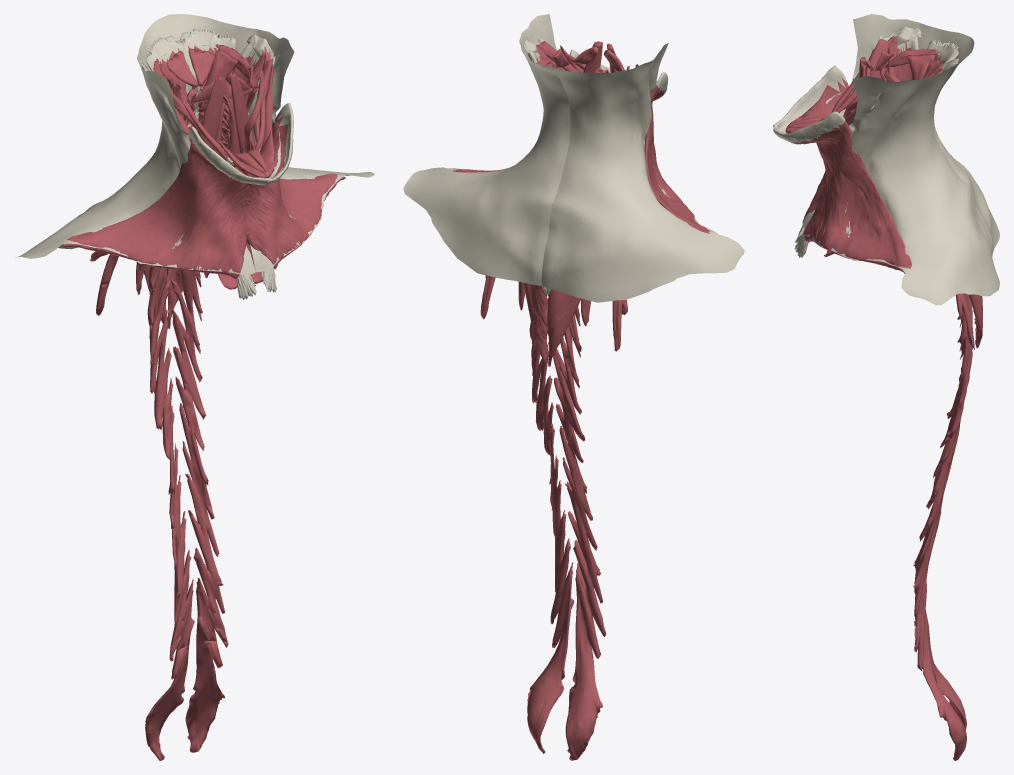
Rendered from detail-muscular-neck.glb.
The picture shows the model from 3 angles, left to right: view 1: azimuth 30°, elevation 25°; view 2: azimuth 150°, elevation 25°; view 3: azimuth 270°, elevation 25°; orthographic projection. The views are drawn at different scales.
Visible parts, largest first — view 1: za-981cc629c9126f4d, za-1216a7f2f619366f, za-6c12c4f108a2f519, za-fdeec9923b8b4599, za-8329b91f3f66835b, za-a977839783334c32, za-5dd3774f022d3797, za-29a0d6bc1f74e0b5, za-fdb102b94d64d117, za-ad194d5f032cf5a8, za-0d40ec91fd7301d3, za-03d11aa52a6f3696 (+2 smaller); view 2: za-fdeec9923b8b4599, za-a977839783334c32, za-6c12c4f108a2f519, za-1216a7f2f619366f, za-981cc629c9126f4d, za-5879425ffa9dc318, za-4761270a220b4028; view 3: za-a977839783334c32, za-8329b91f3f66835b, za-1216a7f2f619366f, za-fdeec9923b8b4599, za-981cc629c9126f4d, za-6c12c4f108a2f519, za-93a28e6cad4a9359, za-6d57fcfb776c8b93, za-07a7d535beb38818, za-65cef8409c128742, za-4761270a220b4028, za-ad4d8464ab415080 (+1 smaller).
Part boxes in pixels (<box>): za-981cc629c9126f4d: <box>62,126,272,278</box>; za-1216a7f2f619366f: <box>171,132,229,752</box>; za-6c12c4f108a2f519: <box>145,110,198,760</box>; za-fdeec9923b8b4599: <box>16,15,255,275</box>; za-8329b91f3f66835b: <box>244,103,345,269</box>; za-a977839783334c32: <box>169,14,374,272</box>; za-5dd3774f022d3797: <box>246,34,276,292</box>; za-29a0d6bc1f74e0b5: <box>198,77,224,149</box>; za-fdb102b94d64d117: <box>229,73,248,153</box>; za-ad194d5f032cf5a8: <box>183,31,235,144</box>; za-0d40ec91fd7301d3: <box>195,49,237,108</box>; za-03d11aa52a6f3696: <box>180,29,226,119</box>; za-fdeec9923b8b4599: <box>541,43,744,302</box>; za-a977839783334c32: <box>403,14,570,285</box>; za-6c12c4f108a2f519: <box>553,306,606,760</box>; za-1216a7f2f619366f: <box>527,294,574,753</box>; za-981cc629c9126f4d: <box>644,72,709,233</box>; za-5879425ffa9dc318: <box>547,289,580,366</box>; za-4761270a220b4028: <box>524,67,558,366</box>; za-a977839783334c32: <box>802,43,999,305</box>; za-8329b91f3f66835b: <box>773,111,911,273</box>; za-1216a7f2f619366f: <box>913,296,972,760</box>; za-fdeec9923b8b4599: <box>784,14,999,252</box>; za-981cc629c9126f4d: <box>773,65,850,217</box>; za-6c12c4f108a2f519: <box>913,311,972,743</box>; za-93a28e6cad4a9359: <box>795,26,921,242</box>; za-6d57fcfb776c8b93: <box>888,28,918,81</box>; za-07a7d535beb38818: <box>836,36,894,112</box>; za-65cef8409c128742: <box>907,54,934,79</box>; za-4761270a220b4028: <box>968,294,982,348</box>; za-ad4d8464ab415080: <box>955,293,974,349</box>.
Size of the model in its own units: 0.3486 by 0.7016 by 0.2032.
